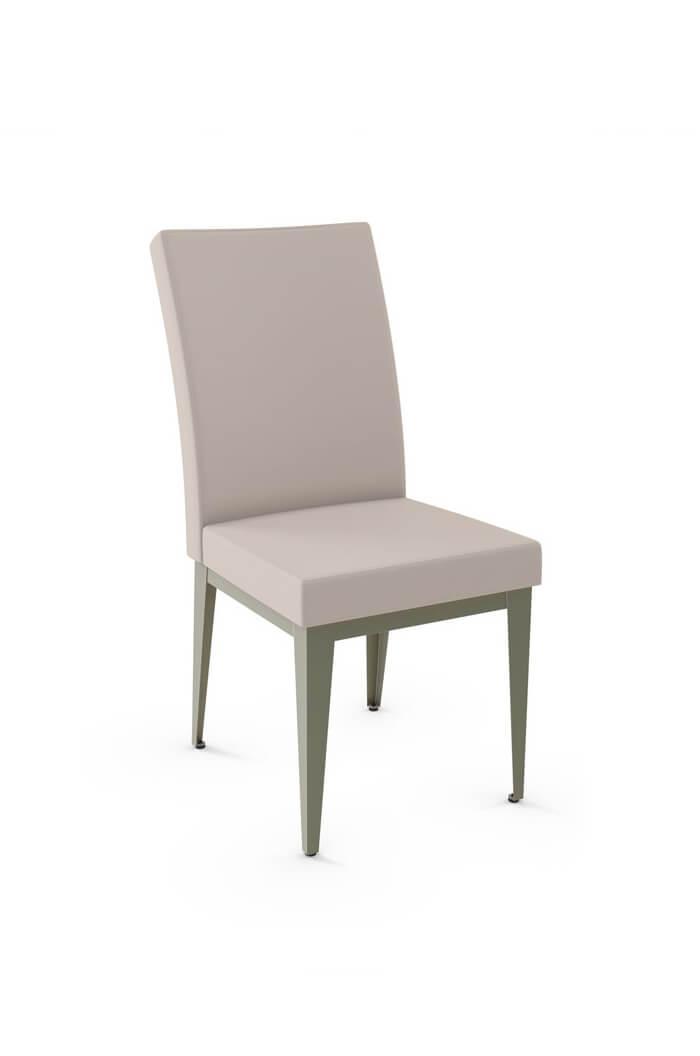chair: (122, 207, 644, 876)
